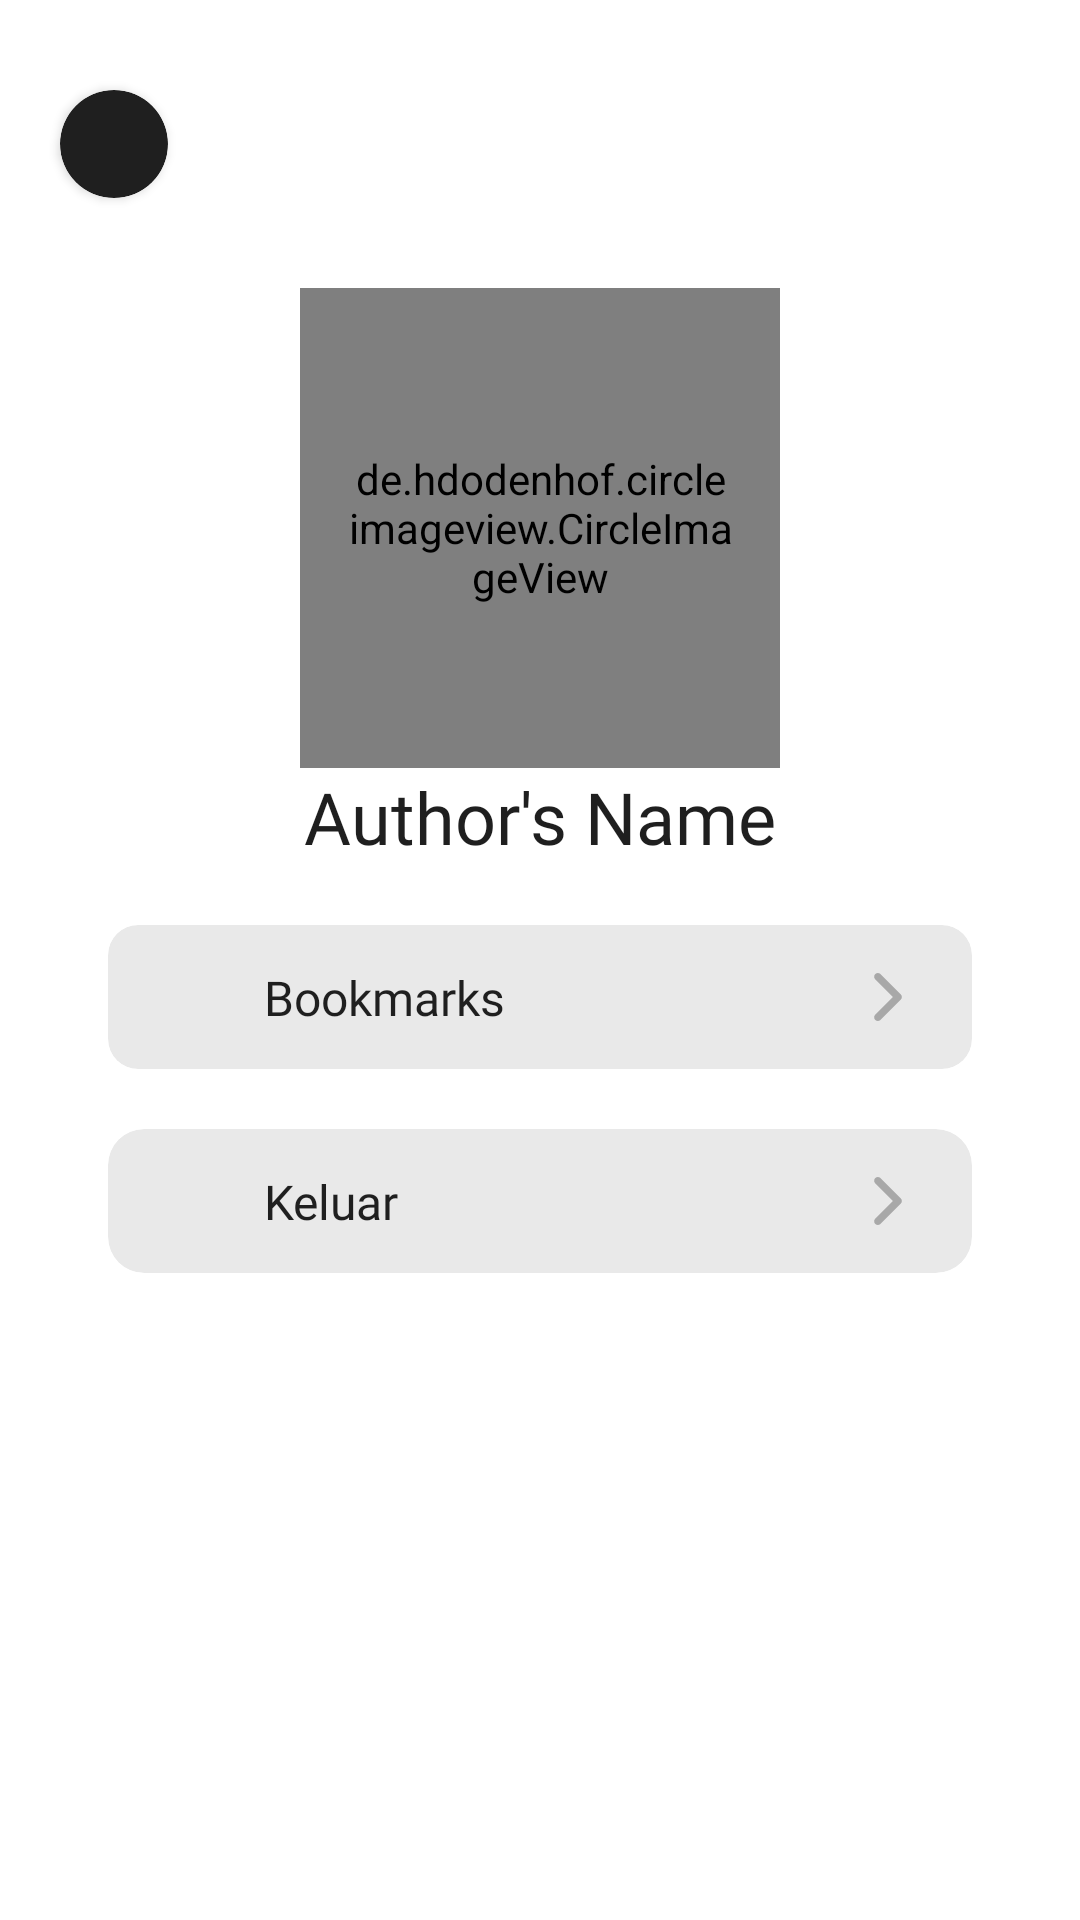

Icon click points for this 1080×1920 phone screenshot, format (x,y):
right arrow: (888,997), (888,1201)
